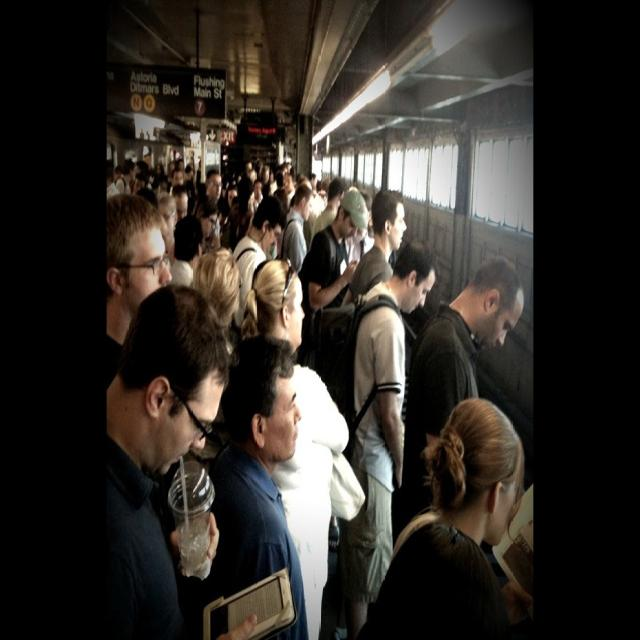body: (106, 281, 259, 640), (307, 236, 438, 639), (238, 254, 367, 639), (354, 394, 534, 640), (103, 124, 379, 264), (394, 259, 526, 534), (203, 331, 311, 640), (106, 189, 173, 393), (338, 187, 407, 311), (306, 185, 370, 314), (233, 193, 288, 329), (190, 242, 244, 366), (279, 182, 317, 274), (200, 168, 227, 256), (191, 196, 220, 252)
